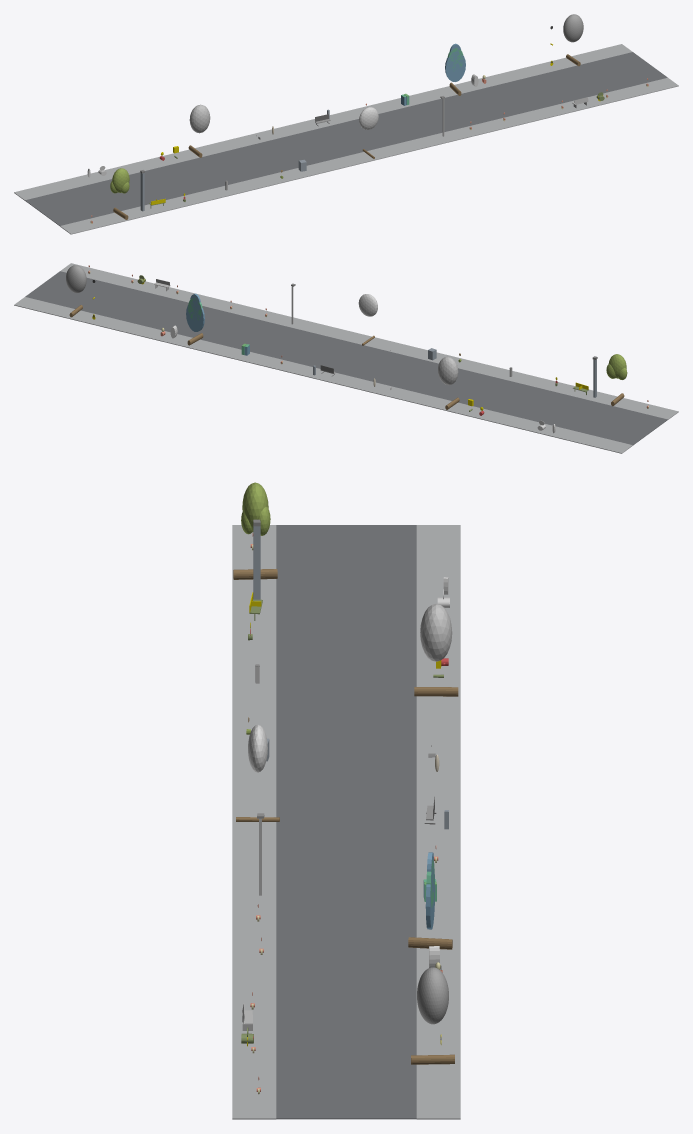
The picture shows the model from 3 angles, top to bottom: view 1: azimuth 30°, elevation 25°; view 2: azimuth 150°, elevation 25°; view 3: azimuth 270°, elevation 25°; orthographic projection. The views are drawn at different scales.
Parts seen in each view (by area): view 1: road_slab, sidewalk_left, sidewalk_right, inst_0015, inst_0013, inst_0016, inst_0012, inst_0014; view 2: road_slab, sidewalk_right, sidewalk_left, inst_0015, inst_0013, inst_0016, inst_0012, inst_0014; view 3: road_slab, sidewalk_left, sidewalk_right, inst_0013, inst_0016, inst_0012, inst_0015, inst_0014.
Boxes of the visible parts, left/top/right/bottom form: road_slab: left=25, top=52, right=667, bottom=225; sidewalk_left: left=60, top=77, right=678, bottom=234; sidewalk_right: left=14, top=44, right=632, bottom=200; inst_0015: left=445, top=43, right=465, bottom=95; inst_0013: left=188, top=104, right=210, bottom=157; inst_0016: left=563, top=14, right=583, bottom=66; inst_0012: left=110, top=168, right=129, bottom=219; inst_0014: left=359, top=107, right=378, bottom=158; road_slab: left=25, top=271, right=667, bottom=445; sidewalk_right: left=14, top=297, right=632, bottom=453; sidewalk_left: left=60, top=263, right=678, bottom=419; inst_0015: left=186, top=293, right=204, bottom=345; inst_0013: left=438, top=356, right=459, bottom=409; inst_0016: left=66, top=265, right=86, bottom=317; inst_0012: left=606, top=354, right=627, bottom=406; inst_0014: left=358, top=294, right=377, bottom=345; road_slab: left=276, top=525, right=416, bottom=1119; sidewalk_left: left=232, top=525, right=276, bottom=1119; sidewalk_right: left=416, top=525, right=460, bottom=1119; inst_0013: left=414, top=603, right=458, bottom=696; inst_0016: left=411, top=967, right=454, bottom=1064; inst_0012: left=233, top=482, right=277, bottom=579; inst_0015: left=408, top=852, right=452, bottom=949; inst_0014: left=236, top=725, right=279, bottom=821.
Bounding box in the file's own units: 80 × 6.08 × 13.
